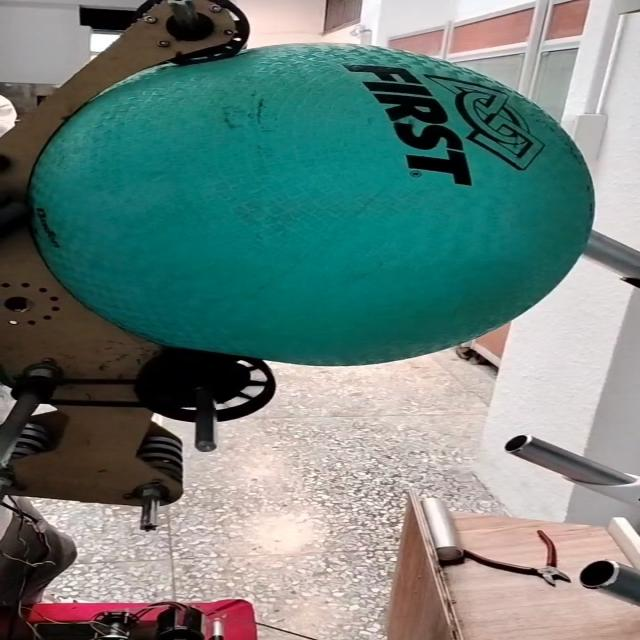ALGAE: (39, 42, 597, 372)
